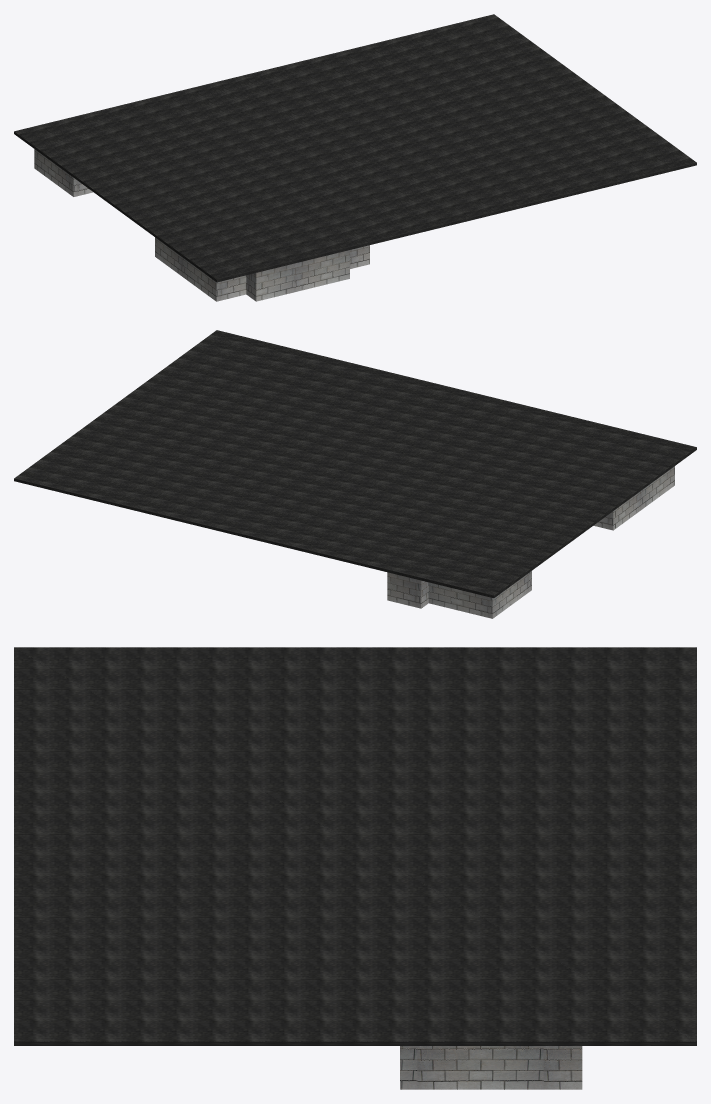
File: MapHSchool.fbx
3 renders of one model, top to bottom at view 1: azimuth 30°, elevation 25°; view 2: azimuth 150°, elevation 25°; view 3: azimuth 270°, elevation 25°, orthographic. The views are drawn at different scales.
Visible parts, largest first — view 1: Celling, Walls; view 2: Celling, Walls; view 3: Celling, Walls.
Part boxes in pixels (<box>): Celling: <box>14,14,696,282</box>; Walls: <box>34,149,369,301</box>; Celling: <box>14,330,696,598</box>; Walls: <box>387,466,674,618</box>; Celling: <box>14,647,696,1045</box>; Walls: <box>400,1046,582,1089</box>.
Size of the model in its own units: 5439 by 355 by 3980.
